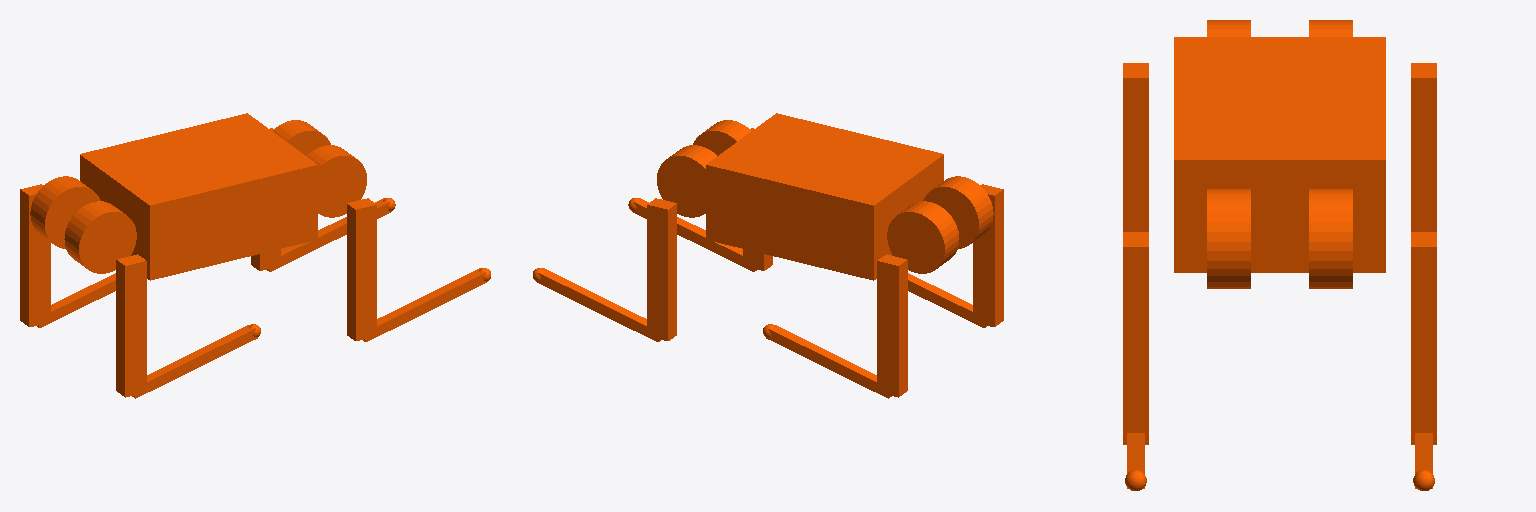
URDF robot description (camel_srb_quad):
<?xml version="1.0" ?>
<robot name="camel_srb_quad" xmlns:xacro="http://www.ros.org/wiki/xacro">
  <material name="black">
    <color rgba="0.0 0.0 0.0 1.0"/>
  </material>
  <material name="blue">
    <color rgba="0.0 0.0 0.8 1.0"/>
  </material>
  <material name="green">
    <color rgba="0.0 0.8 0.0 1.0"/>
  </material>
  <material name="grey">
    <color rgba="0.2 0.2 0.2 1.0"/>
  </material>
  <material name="silver">
    <color rgba="0.913725490196 0.913725490196 0.847058823529 1.0"/>
  </material>
  <material name="orange">
    <color rgba="1.0 0.423529411765 0.0392156862745 1.0"/>
  </material>
  <material name="brown">
    <color rgba="0.870588235294 0.811764705882 0.764705882353 1.0"/>
  </material>
  <material name="red">
    <color rgba="0.8 0.0 0.0 1.0"/>
  </material>
  <material name="white">
    <color rgba="1.0 1.0 1.0 1.0"/>
  </material>
  <!-- <xacro:include filename="$(find aliengo_gazebo)/launch/gazebo.xacro"/> -->
  <!-- Debug mode will hung up the robot, use "true" or "false" to switch it. -->
  <!-- <xacro:if value="$(arg DEBUG)">
        <link name="world"/>
        <joint name="base_static_joint" type="fixed">
            <origin rpy="0 0 0" xyz="0 0 0"/>
            <parent link="world"/>
            <child link="base"/>
        </joint>
    </xacro:if>  -->
  <link name="base">
    <visual>
      <origin rpy="0 0 0" xyz="0 0 0"/>
      <geometry>
        <box size="0.001 0.001 0.001"/>
      </geometry>
    </visual>
  </link>
  <joint name="floating_base" type="fixed">
    <origin rpy="0 0 0" xyz="0 0 0"/>
    <parent link="base"/>
    <child link="trunk"/>
  </joint>
  <link name="trunk">
    <visual>
      <origin rpy="0 0 0" xyz="0 0 0"/>
      <geometry>
        <box size="0.267 0.194 0.114"/>
      </geometry>
      <material name="orange"/>
    </visual>
    <collision>
      <origin rpy="0 0 0" xyz="0 0 0"/>
      <geometry>
        <box size="0.267 0.194 0.114"/>
      </geometry>
    </collision>
    <inertial>
      <origin rpy="0 0 0" xyz="0.0 0.0 0.0"/>
      <mass value="30.0"/>
      <inertia ixx="0.12658" ixy="0.0" ixz="0.0" iyy="0.2107125" iyz="0.0" izz="0.2723125"/>
    </inertial>
  </link>
  <joint name="imu_joint" type="fixed">
    <parent link="trunk"/>
    <child link="imu_link"/>
    <origin rpy="0 0 0" xyz="0 0 0"/>
  </joint>
  <link name="imu_link">
    <inertial>
      <mass value="0.001"/>
      <origin rpy="0 0 0" xyz="0 0 0"/>
      <inertia ixx="0.0001" ixy="0.0" ixz="0.0" iyy="0.000001" iyz="0.0" izz="0.0001"/>
    </inertial>
    <visual>
      <origin rpy="0 0 0" xyz="0 0 0"/>
      <geometry>
        <box size="0.001 0.001 0.001"/>
      </geometry>
      <material name="red"/>
    </visual>
    <collision>
      <origin rpy="0 0 0" xyz="0 0 0"/>
      <geometry>
        <box size=".001 .001 .001"/>
      </geometry>
    </collision>
  </link>
  <joint name="FR_hip_joint" type="revolute">
    <origin rpy="0 0 0" xyz="0.183 -0.047 0"/>
    <parent link="trunk"/>
    <child link="FR_hip"/>
    <axis xyz="1 0 0"/>
    <dynamics damping="0" friction="0"/>
    <limit effort="20" lower="-0.802851455917" upper="0.802851455917" velocity="52.4"/>
  </joint>
  <link name="FR_hip">
    <visual>
      <origin rpy="1.57079632679 0 0" xyz="0 0 0"/>
      <geometry>
        <cylinder length="0.04" radius="0.046"/>
      </geometry>
      <material name="orange"/>
    </visual>
    <collision>
      <origin rpy="1.57079632679 0 0" xyz="0 0 0"/>
      <geometry>
        <cylinder length="0.04" radius="0.046"/>
      </geometry>
    </collision>
    <inertial>
      <origin rpy="0 0 0" xyz="-0.003311 -0.000635 3.1e-05"/>
      <mass value="0.696"/>
      <inertia ixx="0.000469246" ixy="0.0" ixz="0.0" iyy="0.00080749" iyz="0.0" izz="0.000552929"/>
    </inertial>
  </link>
<!--  <joint name="${name}_hip_fixed" type="fixed">
    <origin rpy="0 0 0" xyz="0 ${(thigh_shoulder_length/2.0+hip_offset)*mirror} 0"/>
    <parent link="${name}_hip"/>
    <child link="${name}_thigh_shoulder"/>
  </joint> -->
  <!-- this link is only for collision -->
 <!-- <link name="${name}_thigh_shoulder">
    <collision>
      <origin rpy="${PI/2.0} 0 0" xyz="0 0 0"/>
      <geometry>
        <cylinder length="${thigh_shoulder_length}" radius="${thigh_shoulder_radius}"/>
      </geometry>
    </collision>
  </link> -->
  <joint name="FR_thigh_joint" type="continuous">
    <origin rpy="0 0 0" xyz="0 -0.08505 0"/>
    <parent link="FR_hip"/>
    <child link="FR_thigh"/>
    <axis xyz="0 1 0"/>
    <dynamics damping="0" friction="0"/>
    <limit effort="55" lower="-1.0471975512" upper="4.18879020479" velocity="28.6"/>
  </joint>
  <link name="FR_thigh">
    <visual>
      <origin rpy="0 1.57079632679 0" xyz="0 0 -0.1"/>
      <geometry>
        <box size="0.2 0.0245 0.034"/>
      </geometry>
      <material name="orange"/>
    </visual>
    <collision>
      <origin rpy="0 1.57079632679 0" xyz="0 0 -0.1"/>
      <geometry>
        <box size="0.2 0.0245 0.034"/>
      </geometry>
    </collision>
    <inertial>
      <origin rpy="0 0 0" xyz="-0.003237 0.022327 -0.027326"/>
      <mass value="1.013"/>
      <inertia ixx="0.005529065" ixy="0.0" ixz="0.0" iyy="0.005139339" iyz="0.0" izz="0.001367788"/>
    </inertial>
  </link>
  <joint name="FR_calf_joint" type="revolute">
    <origin rpy="0 0 0" xyz="0 0 -0.2"/>
    <parent link="FR_thigh"/>
    <child link="FR_calf"/>
    <axis xyz="0 1 0"/>
    <dynamics damping="0" friction="0"/>
    <limit effort="55" lower="-2.69653369433" upper="-0.916297857297" velocity="28.6"/>
  </joint>
  <link name="FR_calf">
    <visual>
      <origin rpy="0 1.57079632679 0" xyz="0 0 -0.1"/>
      <geometry>
        <box size="0.2 0.016 0.016"/>
      </geometry>
      <material name="orange"/>
    </visual>
    <collision>
      <origin rpy="0 1.57079632679 0" xyz="0 0 -0.1"/>
      <geometry>
        <box size="0.2 0.016 0.016"/>
      </geometry>
    </collision>
    <inertial>
      <origin rpy="0 0 0" xyz="0.006435 0.0 -0.107388"/>
      <mass value="0.166"/>
      <inertia ixx="0.002997972" ixy="0.0" ixz="-0.0" iyy="0.003014022" iyz="0.0" izz="3.2426e-05"/>
    </inertial>
  </link>
  <joint name="FR_foot_fixed" type="fixed">
    <origin rpy="0 0 0" xyz="0 0 -0.2"/>
    <parent link="FR_calf"/>
    <child link="FR_foot"/>
  </joint>
  <link name="FR_foot">
    <visual>
      <origin rpy="0 0 0" xyz="0 0 0"/>
      <geometry>
        <sphere radius="0.01"/>
      </geometry>
      <material name="orange"/>
    </visual>
    <collision>
      <origin rpy="0 0 0" xyz="0 0 0"/>
      <geometry>
        <sphere radius="0.02"/>
      </geometry>
    </collision>
    <inertial>
      <mass value="0.06"/>
      <inertia ixx="9.6e-06" ixy="0.0" ixz="0.0" iyy="9.6e-06" iyz="0.0" izz="9.6e-06"/>
    </inertial>
  </link>
  <transmission name="FR_hip_tran">
    <type>transmission_interface/SimpleTransmission</type>
    <joint name="FR_hip_joint">
      <hardwareInterface>hardware_interface/EffortJointInterface</hardwareInterface>
    </joint>
    <actuator name="FR_hip_motor">
      <hardwareInterface>hardware_interface/EffortJointInterface</hardwareInterface>
      <mechanicalReduction>1</mechanicalReduction>
    </actuator>
  </transmission>
  <transmission name="FR_thigh_tran">
    <type>transmission_interface/SimpleTransmission</type>
    <joint name="FR_thigh_joint">
      <hardwareInterface>hardware_interface/EffortJointInterface</hardwareInterface>
    </joint>
    <actuator name="FR_thigh_motor">
      <hardwareInterface>hardware_interface/EffortJointInterface</hardwareInterface>
      <mechanicalReduction>1</mechanicalReduction>
    </actuator>
  </transmission>
  <transmission name="FR_calf_tran">
    <type>transmission_interface/SimpleTransmission</type>
    <joint name="FR_calf_joint">
      <hardwareInterface>hardware_interface/EffortJointInterface</hardwareInterface>
    </joint>
    <actuator name="FR_calf_motor">
      <hardwareInterface>hardware_interface/EffortJointInterface</hardwareInterface>
      <mechanicalReduction>1</mechanicalReduction>
    </actuator>
  </transmission>
  <joint name="FL_hip_joint" type="revolute">
    <origin rpy="0 0 0" xyz="0.183 0.047 0"/>
    <parent link="trunk"/>
    <child link="FL_hip"/>
    <axis xyz="1 0 0"/>
    <dynamics damping="0" friction="0"/>
    <limit effort="20" lower="-0.802851455917" upper="0.802851455917" velocity="52.4"/>
  </joint>
  <link name="FL_hip">
    <visual>
      <origin rpy="1.57079632679 0 0" xyz="0 0 0"/>
      <geometry>
        <cylinder length="0.04" radius="0.046"/>
      </geometry>
      <material name="orange"/>
    </visual>
    <collision>
      <origin rpy="1.57079632679 0 0" xyz="0 0 0"/>
      <geometry>
        <cylinder length="0.04" radius="0.046"/>
      </geometry>
    </collision>
    <inertial>
      <origin rpy="0 0 0" xyz="-0.003311 0.000635 3.1e-05"/>
      <mass value="0.696"/>
      <inertia ixx="0.000469246" ixy="0.0" ixz="0.0" iyy="0.00080749" iyz="0.0" izz="0.000552929"/>
    </inertial>
  </link>
<!--  <joint name="${name}_hip_fixed" type="fixed">
    <origin rpy="0 0 0" xyz="0 ${(thigh_shoulder_length/2.0+hip_offset)*mirror} 0"/>
    <parent link="${name}_hip"/>
    <child link="${name}_thigh_shoulder"/>
  </joint> -->
  <!-- this link is only for collision -->
 <!-- <link name="${name}_thigh_shoulder">
    <collision>
      <origin rpy="1.57079632679 0 0" xyz="0 0 0"/>
      <geometry>
        <cylinder length="${thigh_shoulder_length}" radius="${thigh_shoulder_radius}"/>
      </geometry>
    </collision>
  </link> -->
  <joint name="FL_thigh_joint" type="continuous">
    <origin rpy="0 0 0" xyz="0 0.08505 0"/>
    <parent link="FL_hip"/>
    <child link="FL_thigh"/>
    <axis xyz="0 1 0"/>
    <dynamics damping="0" friction="0"/>
    <limit effort="55" lower="-1.0471975512" upper="4.18879020479" velocity="28.6"/>
  </joint>
  <link name="FL_thigh">
    <visual>
      <origin rpy="0 1.57079632679 0" xyz="0 0 -0.1"/>
      <geometry>
        <box size="0.2 0.0245 0.034"/>
      </geometry>
      <material name="orange"/>
    </visual>
    <collision>
      <origin rpy="0 1.57079632679 0" xyz="0 0 -0.1"/>
      <geometry>
        <box size="0.2 0.0245 0.034"/>
      </geometry>
    </collision>
    <inertial>
      <origin rpy="0 0 0" xyz="-0.003237 -0.022327 -0.027326"/>
      <mass value="1.013"/>
      <inertia ixx="0.005529065" ixy="0.0" ixz="0.0" iyy="0.005139339" iyz="0.0" izz="0.001367788"/>
    </inertial>
  </link>
  <joint name="FL_calf_joint" type="revolute">
    <origin rpy="0 0 0" xyz="0 0 -0.2"/>
    <parent link="FL_thigh"/>
    <child link="FL_calf"/>
    <axis xyz="0 1 0"/>
    <dynamics damping="0" friction="0"/>
    <limit effort="55" lower="-2.69653369433" upper="-0.916297857297" velocity="28.6"/>
  </joint>
  <link name="FL_calf">
    <visual>
      <origin rpy="0 1.57079632679 0" xyz="0 0 -0.1"/>
      <geometry>
        <box size="0.2 0.016 0.016"/>
      </geometry>
      <material name="orange"/>
    </visual>
    <collision>
      <origin rpy="0 1.57079632679 0" xyz="0 0 -0.1"/>
      <geometry>
        <box size="0.2 0.016 0.016"/>
      </geometry>
    </collision>
    <inertial>
      <origin rpy="0 0 0" xyz="0.006435 0.0 -0.107388"/>
      <mass value="0.166"/>
      <inertia ixx="0.002997972" ixy="0.0" ixz="-0.0" iyy="0.003014022" iyz="0.0" izz="3.2426e-05"/>
    </inertial>
  </link>
  <joint name="FL_foot_fixed" type="fixed">
    <origin rpy="0 0 0" xyz="0 0 -0.2"/>
    <parent link="FL_calf"/>
    <child link="FL_foot"/>
  </joint>
  <link name="FL_foot">
    <visual>
      <origin rpy="0 0 0" xyz="0 0 0"/>
      <geometry>
        <sphere radius="0.01"/>
      </geometry>
      <material name="orange"/>
    </visual>
    <collision>
      <origin rpy="0 0 0" xyz="0 0 0"/>
      <geometry>
        <sphere radius="0.02"/>
      </geometry>
    </collision>
    <inertial>
      <mass value="0.06"/>
      <inertia ixx="9.6e-06" ixy="0.0" ixz="0.0" iyy="9.6e-06" iyz="0.0" izz="9.6e-06"/>
    </inertial>
  </link>
  <transmission name="FL_hip_tran">
    <type>transmission_interface/SimpleTransmission</type>
    <joint name="FL_hip_joint">
      <hardwareInterface>hardware_interface/EffortJointInterface</hardwareInterface>
    </joint>
    <actuator name="FL_hip_motor">
      <hardwareInterface>hardware_interface/EffortJointInterface</hardwareInterface>
      <mechanicalReduction>1</mechanicalReduction>
    </actuator>
  </transmission>
  <transmission name="FL_thigh_tran">
    <type>transmission_interface/SimpleTransmission</type>
    <joint name="FL_thigh_joint">
      <hardwareInterface>hardware_interface/EffortJointInterface</hardwareInterface>
    </joint>
    <actuator name="FL_thigh_motor">
      <hardwareInterface>hardware_interface/EffortJointInterface</hardwareInterface>
      <mechanicalReduction>1</mechanicalReduction>
    </actuator>
  </transmission>
  <transmission name="FL_calf_tran">
    <type>transmission_interface/SimpleTransmission</type>
    <joint name="FL_calf_joint">
      <hardwareInterface>hardware_interface/EffortJointInterface</hardwareInterface>
    </joint>
    <actuator name="FL_calf_motor">
      <hardwareInterface>hardware_interface/EffortJointInterface</hardwareInterface>
      <mechanicalReduction>1</mechanicalReduction>
    </actuator>
  </transmission>
  <joint name="RR_hip_joint" type="revolute">
    <origin rpy="0 0 0" xyz="-0.183 -0.047 0"/>
    <parent link="trunk"/>
    <child link="RR_hip"/>
    <axis xyz="1 0 0"/>
    <dynamics damping="0" friction="0"/>
    <limit effort="20" lower="-0.802851455917" upper="0.802851455917" velocity="52.4"/>
  </joint>
  <link name="RR_hip">
    <visual>
      <origin rpy="1.57079632679 0 0" xyz="0 0 0"/>
      <geometry>
        <cylinder length="0.04" radius="0.046"/>
      </geometry>
      <material name="orange"/>
    </visual>
    <collision>
      <origin rpy="1.57079632679 0 0" xyz="0 0 0"/>
      <geometry>
        <cylinder length="0.04" radius="0.046"/>
      </geometry>
    </collision>
    <inertial>
      <origin rpy="0 0 0" xyz="0.003311 -0.000635 3.1e-05"/>
      <mass value="0.696"/>
      <inertia ixx="0.000469246" ixy="0.0" ixz="0.0" iyy="0.00080749" iyz="0.0" izz="0.000552929"/>
    </inertial>
  </link>
 <!-- <joint name="${name}_hip_fixed" type="fixed">
    <origin rpy="0 0 0" xyz="0 ${(thigh_shoulder_length/2.0+hip_offset)*mirror} 0"/>
    <parent link="${name}_hip"/>
    <child link="${name}_thigh_shoulder"/>
  </joint> -->
  <!-- this link is only for collision -->
<!--  <link name="${name}_thigh_shoulder">
    <collision>
      <origin rpy="1.57079632679 0 0" xyz="0 0 0"/>
      <geometry>
        <cylinder length="${thigh_shoulder_length}" radius="${thigh_shoulder_radius}"/>
      </geometry>
    </collision>
  </link> -->
  <joint name="RR_thigh_joint" type="continuous">
    <origin rpy="0 0 0" xyz="0 -0.08505 0"/>
    <parent link="RR_hip"/>
    <child link="RR_thigh"/>
    <axis xyz="0 1 0"/>
    <dynamics damping="0" friction="0"/>
    <limit effort="55" lower="-1.0471975512" upper="4.18879020479" velocity="28.6"/>
  </joint>
  <link name="RR_thigh">
    <visual>
      <origin rpy="0 1.57079632679 0" xyz="0 0 -0.1"/>
      <geometry>
        <box size="0.2 0.0245 0.034"/>
      </geometry>
      <material name="orange"/>
    </visual>
    <collision>
      <origin rpy="0 1.57079632679 0" xyz="0 0 -0.1"/>
      <geometry>
        <box size="0.2 0.0245 0.034"/>
      </geometry>
    </collision>
    <inertial>
      <origin rpy="0 0 0" xyz="-0.003237 0.022327 -0.027326"/>
      <mass value="1.013"/>
      <inertia ixx="0.005529065" ixy="0.0" ixz="0.0" iyy="0.005139339" iyz="0.0" izz="0.001367788"/>
    </inertial>
  </link>
  <joint name="RR_calf_joint" type="revolute">
    <origin rpy="0 0 0" xyz="0 0 -0.2"/>
    <parent link="RR_thigh"/>
    <child link="RR_calf"/>
    <axis xyz="0 1 0"/>
    <dynamics damping="0" friction="0"/>
    <limit effort="55" lower="-2.69653369433" upper="-0.916297857297" velocity="28.6"/>
  </joint>
  <link name="RR_calf">
    <visual>
      <origin rpy="0 1.57079632679 0" xyz="0 0 -0.1"/>
      <geometry>
        <box size="0.2 0.016 0.016"/>
      </geometry>
      <material name="orange"/>
    </visual>
    <collision>
      <origin rpy="0 1.57079632679 0" xyz="0 0 -0.1"/>
      <geometry>
        <box size="0.2 0.016 0.016"/>
      </geometry>
    </collision>
    <inertial>
      <origin rpy="0 0 0" xyz="0.006435 0.0 -0.107388"/>
      <mass value="0.166"/>
      <inertia ixx="0.002997972" ixy="0.0" ixz="0.0" iyy="0.003014022" iyz="0.0" izz="3.2426e-05"/>
    </inertial>
  </link>
  <joint name="RR_foot_fixed" type="fixed">
    <origin rpy="0 0 0" xyz="0 0 -0.2"/>
    <parent link="RR_calf"/>
    <child link="RR_foot"/>
  </joint>
  <link name="RR_foot">
    <visual>
      <origin rpy="0 0 0" xyz="0 0 0"/>
      <geometry>
        <sphere radius="0.01"/>
      </geometry>
      <material name="orange"/>
    </visual>
    <collision>
      <origin rpy="0 0 0" xyz="0 0 0"/>
      <geometry>
        <sphere radius="0.02"/>
      </geometry>
    </collision>
    <inertial>
      <mass value="0.06"/>
      <inertia ixx="9.6e-06" ixy="0.0" ixz="0.0" iyy="9.6e-06" iyz="0.0" izz="9.6e-06"/>
    </inertial>
  </link>
  <transmission name="RR_hip_tran">
    <type>transmission_interface/SimpleTransmission</type>
    <joint name="RR_hip_joint">
      <hardwareInterface>hardware_interface/EffortJointInterface</hardwareInterface>
    </joint>
    <actuator name="RR_hip_motor">
      <hardwareInterface>hardware_interface/EffortJointInterface</hardwareInterface>
      <mechanicalReduction>1</mechanicalReduction>
    </actuator>
  </transmission>
  <transmission name="RR_thigh_tran">
    <type>transmission_interface/SimpleTransmission</type>
    <joint name="RR_thigh_joint">
      <hardwareInterface>hardware_interface/EffortJointInterface</hardwareInterface>
    </joint>
    <actuator name="RR_thigh_motor">
      <hardwareInterface>hardware_interface/EffortJointInterface</hardwareInterface>
      <mechanicalReduction>1</mechanicalReduction>
    </actuator>
  </transmission>
  <transmission name="RR_calf_tran">
    <type>transmission_interface/SimpleTransmission</type>
    <joint name="RR_calf_joint">
      <hardwareInterface>hardware_interface/EffortJointInterface</hardwareInterface>
    </joint>
    <actuator name="RR_calf_motor">
      <hardwareInterface>hardware_interface/EffortJointInterface</hardwareInterface>
      <mechanicalReduction>1</mechanicalReduction>
    </actuator>
  </transmission>
  <joint name="RL_hip_joint" type="revolute">
    <origin rpy="0 0 0" xyz="-0.183 0.047 0"/>
    <parent link="trunk"/>
    <child link="RL_hip"/>
    <axis xyz="1 0 0"/>
    <dynamics damping="0" friction="0"/>
    <limit effort="20" lower="-0.802851455917" upper="0.802851455917" velocity="52.4"/>
  </joint>
  <link name="RL_hip">
    <visual>
      <origin rpy="1.57079632679 0 0" xyz="0 0 0"/>
      <geometry>
        <cylinder length="0.04" radius="0.046"/>
      </geometry>
      <material name="orange"/>
    </visual>
    <collision>
      <origin rpy="1.57079632679 0 0" xyz="0 0 0"/>
      <geometry>
        <cylinder length="0.04" radius="0.046"/>
      </geometry>
    </collision>
    <inertial>
      <origin rpy="0 0 0" xyz="0.003311 0.000635 3.1e-05"/>
      <mass value="0.696"/>
      <inertia ixx="0.000469246" ixy="0.0" ixz="0.0" iyy="0.00080749" iyz="0.0" izz="0.000552929"/>
    </inertial>
  </link>
 <!-- <joint name="${name}_hip_fixed" type="fixed">
    <origin rpy="0 0 0" xyz="0 ${(thigh_shoulder_length/2.0+hip_offset)*mirror} 0"/>
    <parent link="${name}_hip"/>
    <child link="${name}_thigh_shoulder"/>
  </joint> -->
  <!-- this link is only for collision -->
 <!-- <link name="${name}_thigh_shoulder">
    <collision>
      <origin rpy="1.57079632679 0 0" xyz="0 0 0"/>
      <geometry>
        <cylinder length="${thigh_shoulder_length}" radius="${thigh_shoulder_radius}"/>
      </geometry>
    </collision>
  </link> -->
  <joint name="RL_thigh_joint" type="continuous">
    <origin rpy="0 0 0" xyz="0 0.08505 0"/>
    <parent link="RL_hip"/>
    <child link="RL_thigh"/>
    <axis xyz="0 1 0"/>
    <dynamics damping="0" friction="0"/>
    <limit effort="55" lower="-1.0471975512" upper="4.18879020479" velocity="28.6"/>
  </joint>
  <link name="RL_thigh">
    <visual>
      <origin rpy="0 1.57079632679 0" xyz="0 0 -0.1"/>
      <geometry>
        <box size="0.2 0.0245 0.034"/>
      </geometry>
      <material name="orange"/>
    </visual>
    <collision>
      <origin rpy="0 1.57079632679 0" xyz="0 0 -0.1"/>
      <geometry>
        <box size="0.2 0.0245 0.034"/>
      </geometry>
    </collision>
    <inertial>
      <origin rpy="0 0 0" xyz="-0.003237 -0.022327 -0.027326"/>
      <mass value="1.013"/>
      <inertia ixx="0.005529065" ixy="0.0" ixz="0.0" iyy="0.005139339" iyz="0.0" izz="0.001367788"/>
    </inertial>
  </link>
  <joint name="RL_calf_joint" type="revolute">
    <origin rpy="0 0 0" xyz="0 0 -0.2"/>
    <parent link="RL_thigh"/>
    <child link="RL_calf"/>
    <axis xyz="0 1 0"/>
    <dynamics damping="0" friction="0"/>
    <limit effort="55" lower="-2.69653369433" upper="-0.916297857297" velocity="28.6"/>
  </joint>
  <link name="RL_calf">
    <visual>
      <origin rpy="0 1.57079632679 0" xyz="0 0 -0.1"/>
      <geometry>
        <box size="0.2 0.016 0.016"/>
      </geometry>
      <material name="orange"/>
    </visual>
    <collision>
      <origin rpy="0 1.57079632679 0" xyz="0 0 -0.1"/>
      <geometry>
        <box size="0.2 0.016 0.016"/>
      </geometry>
    </collision>
    <inertial>
      <origin rpy="0 0 0" xyz="0.006435 0.0 -0.107388"/>
      <mass value="0.166"/>
      <inertia ixx="0.002997972" ixy="0.0" ixz="0.0" iyy="0.003014022" iyz="0.0" izz="3.2426e-05"/>
    </inertial>
  </link>
  <joint name="RL_foot_fixed" type="fixed">
    <origin rpy="0 0 0" xyz="0 0 -0.2"/>
    <parent link="RL_calf"/>
    <child link="RL_foot"/>
  </joint>
  <link name="RL_foot">
    <visual>
      <origin rpy="0 0 0" xyz="0 0 0"/>
      <geometry>
        <sphere radius="0.01"/>
      </geometry>
      <material name="orange"/>
    </visual>
    <collision>
      <origin rpy="0 0 0" xyz="0 0 0"/>
      <geometry>
        <sphere radius="0.02"/>
      </geometry>
    </collision>
    <inertial>
      <mass value="0.06"/>
      <inertia ixx="9.6e-06" ixy="0.0" ixz="0.0" iyy="9.6e-06" iyz="0.0" izz="9.6e-06"/>
    </inertial>
  </link>
  <transmission name="RL_hip_tran">
    <type>transmission_interface/SimpleTransmission</type>
    <joint name="RL_hip_joint">
      <hardwareInterface>hardware_interface/EffortJointInterface</hardwareInterface>
    </joint>
    <actuator name="RL_hip_motor">
      <hardwareInterface>hardware_interface/EffortJointInterface</hardwareInterface>
      <mechanicalReduction>1</mechanicalReduction>
    </actuator>
  </transmission>
  <transmission name="RL_thigh_tran">
    <type>transmission_interface/SimpleTransmission</type>
    <joint name="RL_thigh_joint">
      <hardwareInterface>hardware_interface/EffortJointInterface</hardwareInterface>
    </joint>
    <actuator name="RL_thigh_motor">
      <hardwareInterface>hardware_interface/EffortJointInterface</hardwareInterface>
      <mechanicalReduction>1</mechanicalReduction>
    </actuator>
  </transmission>
  <transmission name="RL_calf_tran">
    <type>transmission_interface/SimpleTransmission</type>
    <joint name="RL_calf_joint">
      <hardwareInterface>hardware_interface/EffortJointInterface</hardwareInterface>
    </joint>
    <actuator name="RL_calf_motor">
      <hardwareInterface>hardware_interface/EffortJointInterface</hardwareInterface>
      <mechanicalReduction>1</mechanicalReduction>
    </actuator>
  </transmission>
</robot>

--- Render facts (derived) ---
3 views of the same robot in one strip: view 1: azimuth 30°, elevation 25°; view 2: azimuth 150°, elevation 25°; view 3: azimuth 270°, elevation 25° (orthographic).
Robot: camel_srb_quad — 19 links, 18 joints (8 revolute, 4 continuous, 6 fixed); root link base; default pose: all joints at 0 but 4 set to mid-range because 0 is outside their limits (FR_calf_joint = -1.81, FL_calf_joint = -1.81, RR_calf_joint = -1.81, RL_calf_joint = -1.81).
Links seen in each view (by area): view 1: trunk, RR_thigh, FR_thigh, RR_hip, RL_thigh, FR_hip, RL_hip, FR_calf, RR_calf, FL_calf, RL_calf, FL_hip; view 2: trunk, RL_thigh, FL_thigh, RL_hip, RR_thigh, FL_hip, RR_hip, FL_calf, RL_calf, FR_calf, RR_calf, FR_hip; view 3: trunk, FR_thigh, FL_thigh, FR_hip, FL_hip, RR_thigh, RL_thigh, RR_hip, RL_hip, FR_calf, FL_calf.
Link boxes in pixels (x1,y1,x2,y2): trunk: (80,113,317,280); RR_thigh: (116,254,146,397); FR_thigh: (347,198,376,340); RR_hip: (64,201,136,273); RL_thigh: (20,184,50,326); FR_hip: (307,145,366,217); RL_hip: (30,176,100,248); FR_calf: (363,268,487,341); RR_calf: (132,325,257,398); FL_calf: (267,198,391,271); RL_calf: (37,273,115,327); FL_hip: (273,120,330,155); trunk: (706,113,943,280); RL_thigh: (877,254,907,397); FL_thigh: (647,198,676,340); RL_hip: (887,201,959,273); RR_thigh: (973,184,1003,326); FL_hip: (657,145,716,217); RR_hip: (923,176,993,248); FL_calf: (536,268,660,341); RL_calf: (766,325,891,398); FR_calf: (632,198,756,271); RR_calf: (908,273,986,327); FR_hip: (693,120,750,155); trunk: (1174,37,1385,272); FR_thigh: (1123,232,1148,444); FL_thigh: (1411,232,1436,444); FR_hip: (1207,189,1250,288); FL_hip: (1309,189,1352,288); RR_thigh: (1123,63,1148,231); RL_thigh: (1411,63,1436,231); RR_hip: (1207,20,1250,36); RL_hip: (1309,20,1352,36); FR_calf: (1127,433,1144,488); FL_calf: (1415,433,1432,488).
Bounding box of the posed robot: 0.6165 × 0.2886 × 0.2648 m (x, y, z).
Geometry: primitives only (box / cylinder / sphere), no mesh files.
